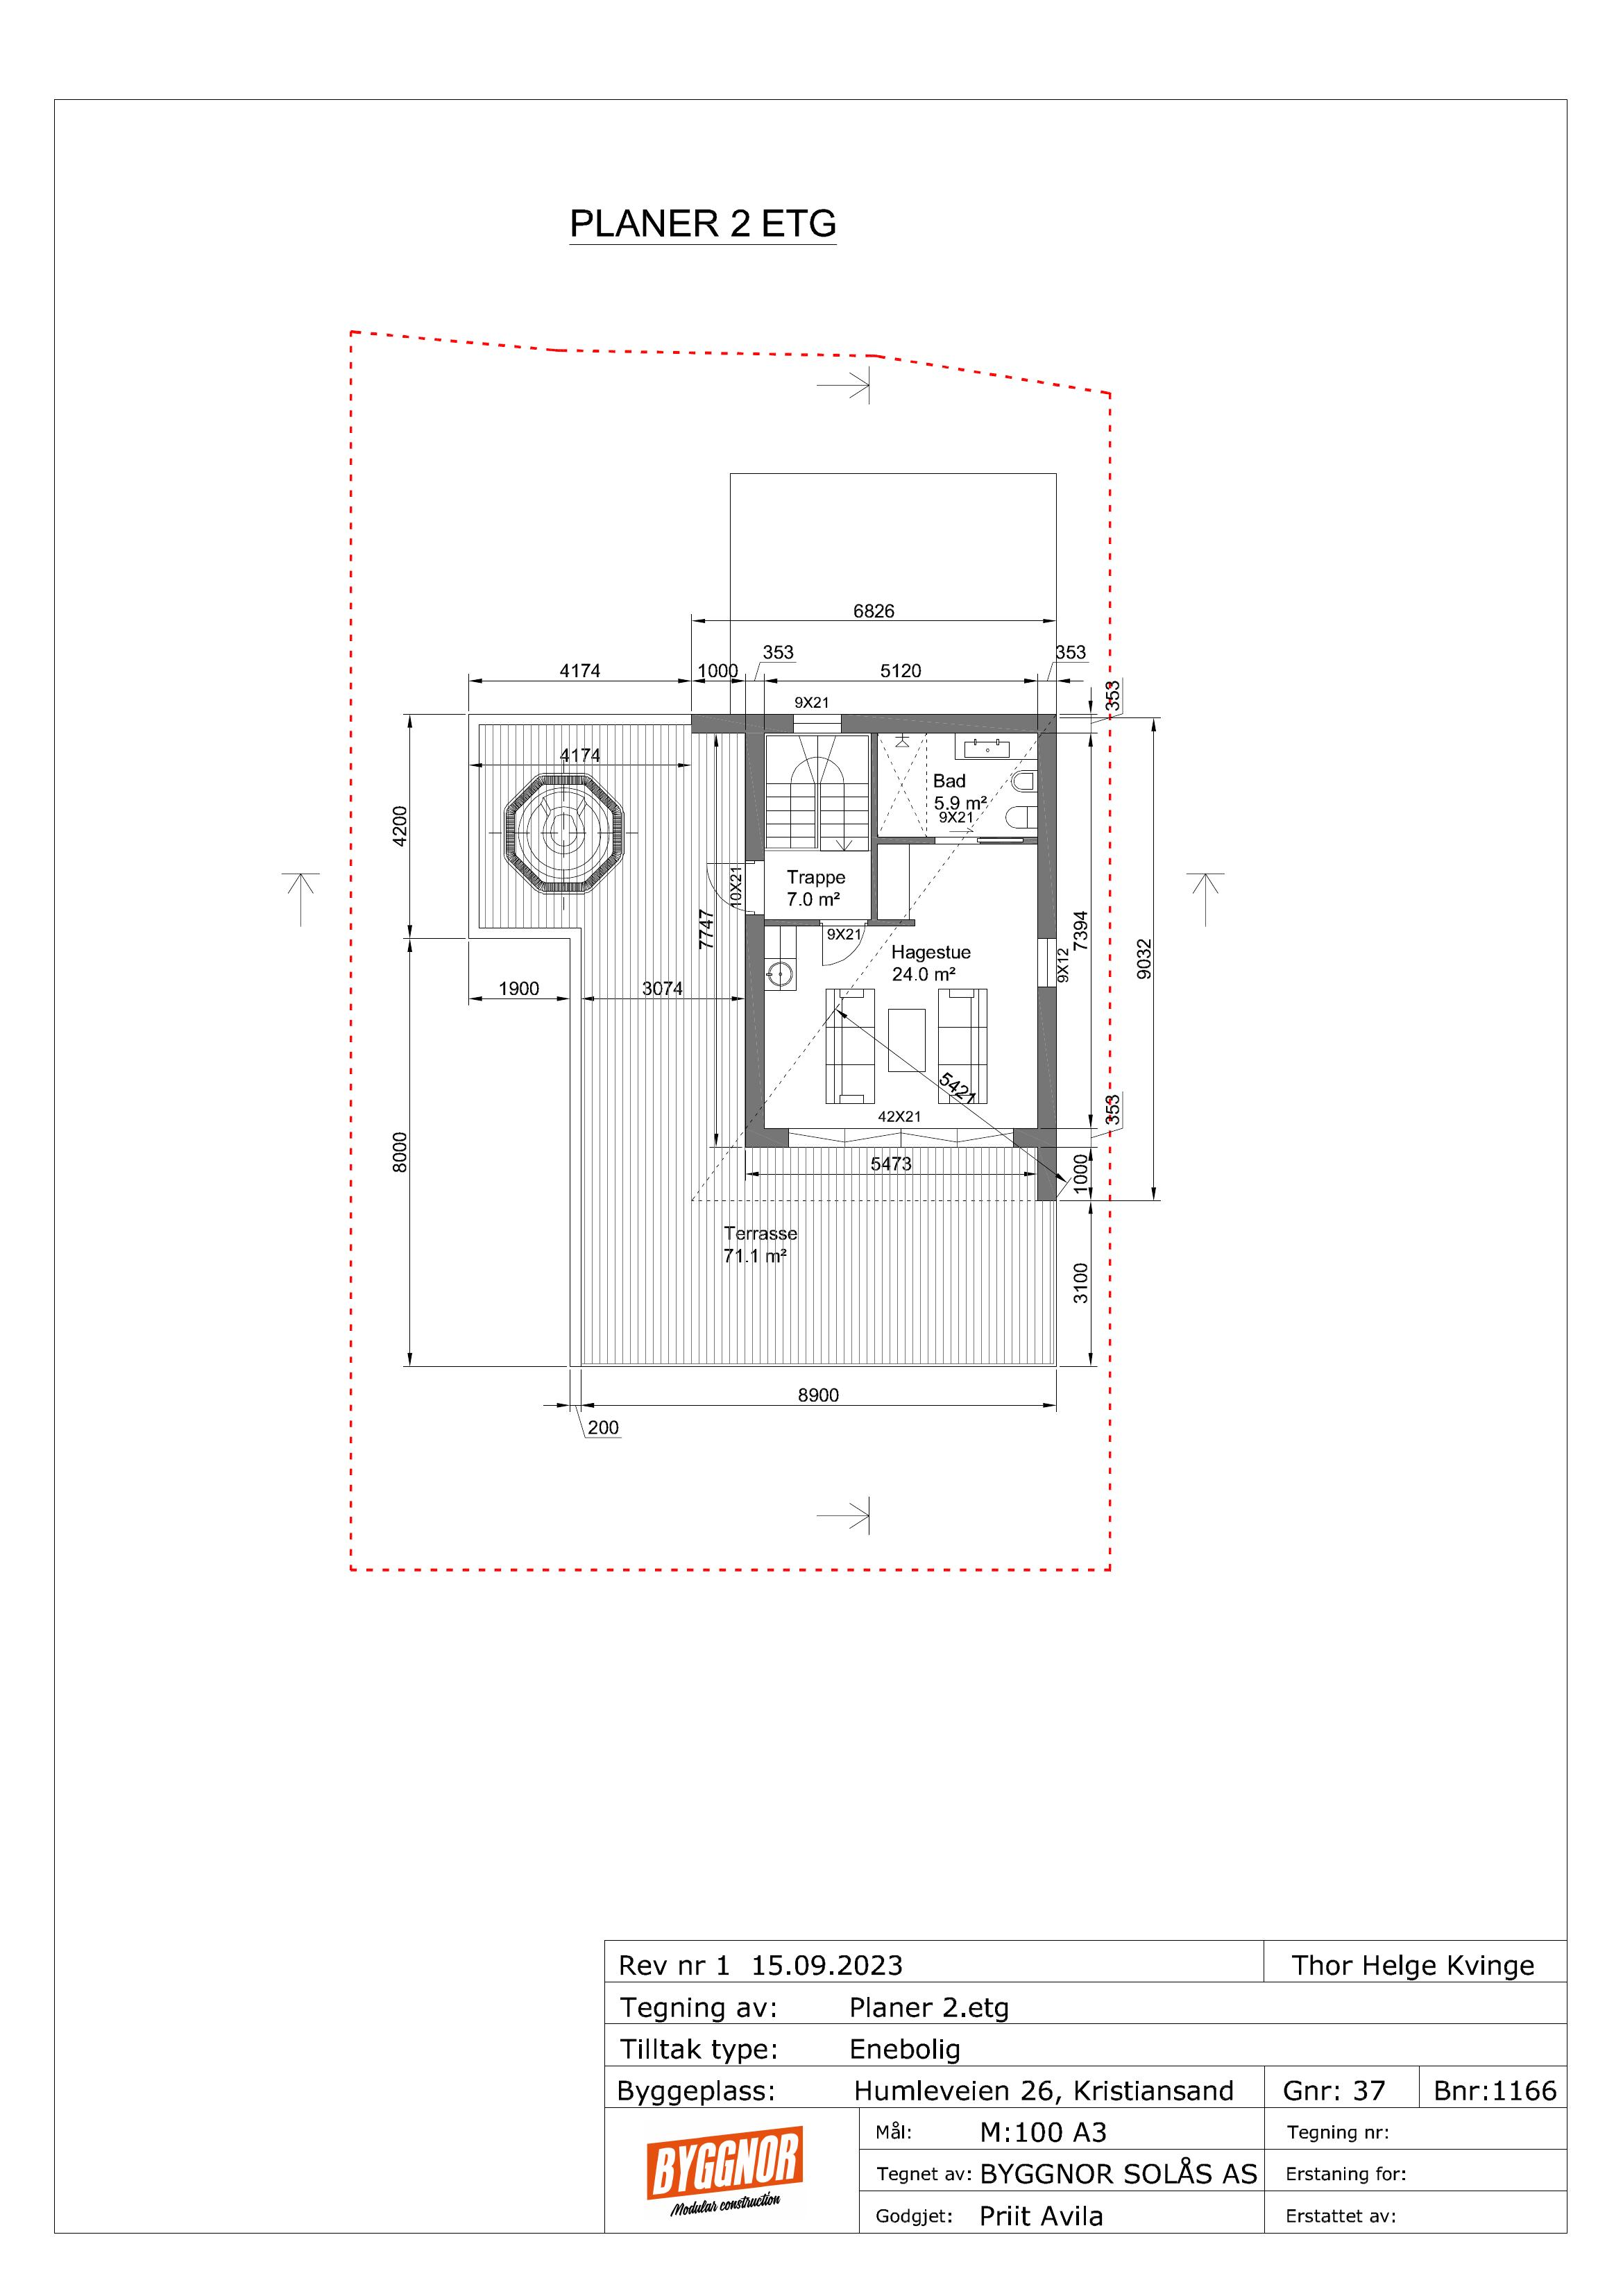plantegning: (413, 409, 1156, 1453)
